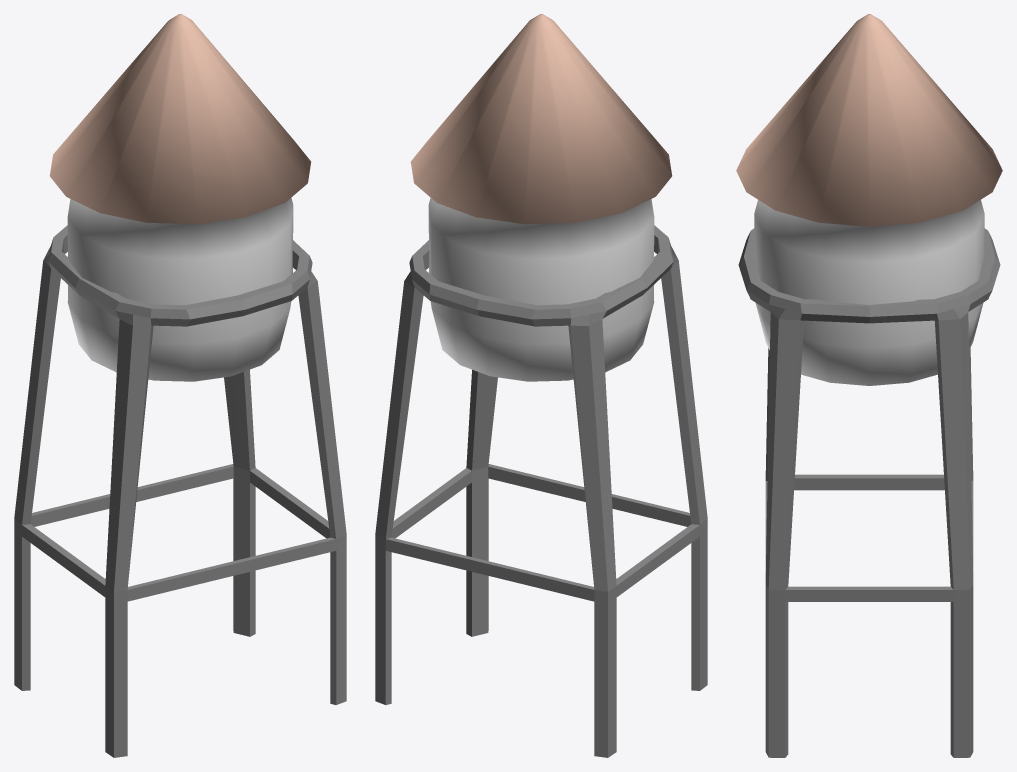
File: waterHolder.fbx
The picture shows the model from 3 angles, left to right: view 1: azimuth 30°, elevation 25°; view 2: azimuth 150°, elevation 25°; view 3: azimuth 270°, elevation 25°; orthographic projection.
Parts seen in each view (by area): view 1: waterHolder; view 2: waterHolder; view 3: waterHolder.
Part boxes in pixels (bbox=[...]): waterHolder: bbox=[14, 14, 346, 757]; waterHolder: bbox=[375, 14, 707, 757]; waterHolder: bbox=[736, 14, 1002, 757].
Bounding box in the file's own units: 337 × 935 × 330.
